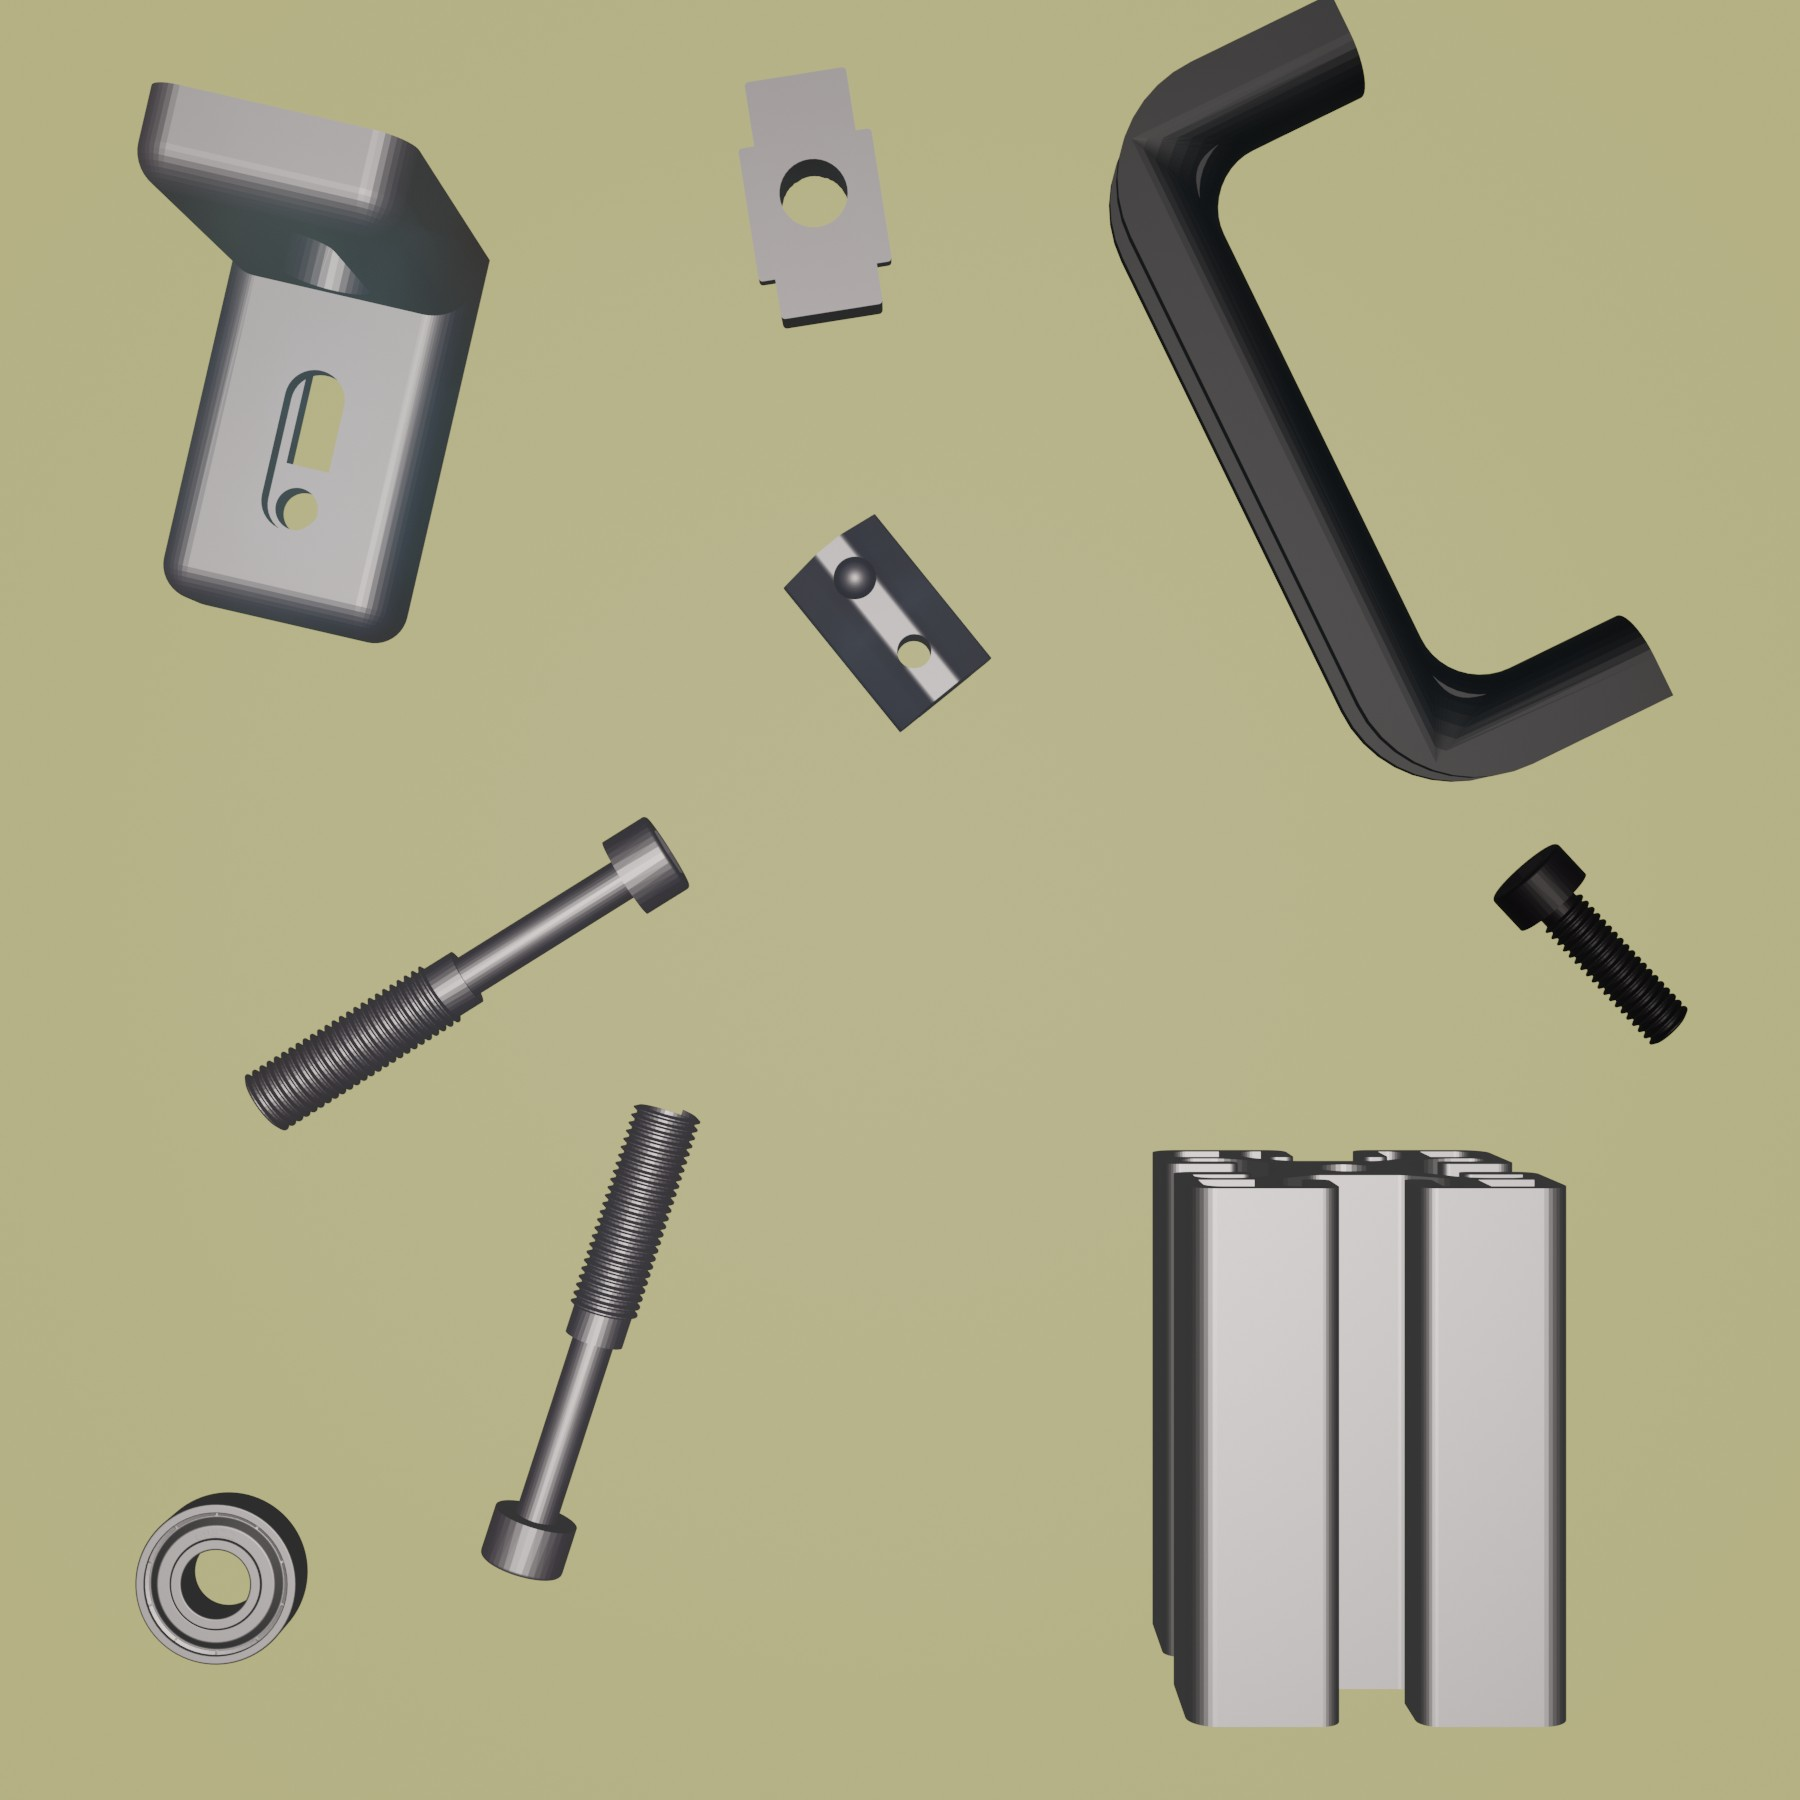Aluminium Extension: (1146, 1141, 1573, 1737)
Ball Bearing: (132, 1492, 312, 1670)
Multiwinkel: (132, 77, 493, 646)
Pull Handle: (1104, 2, 1675, 785)
Shoulder Socket Head Cap Screw: (239, 814, 691, 1131), (478, 1101, 702, 1584)
Socket Head Cap Screw: (1492, 842, 1690, 1048)
T Nut Square: (735, 63, 897, 331)
T Spring Nut: (781, 511, 991, 734)
